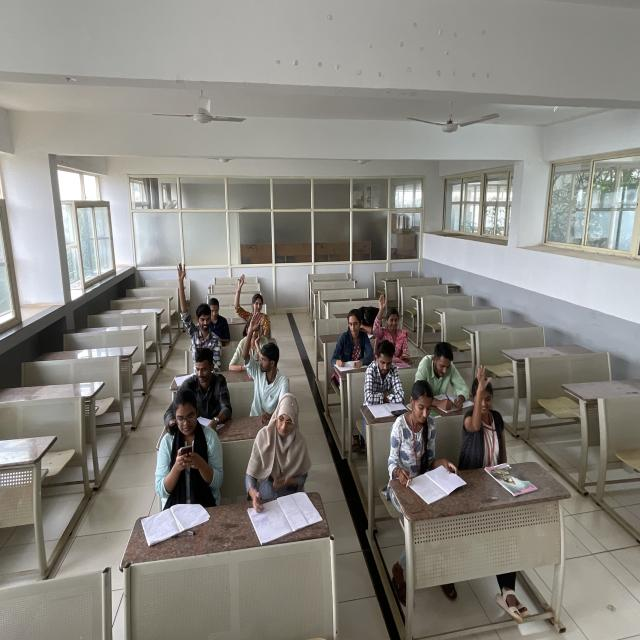Hand Rising: (166, 248, 230, 364), (463, 356, 518, 468), (225, 306, 296, 392), (218, 252, 285, 334), (364, 280, 424, 364)
Reading: (224, 378, 327, 529), (359, 336, 408, 409)
Sleeping: (347, 290, 379, 341)
Using Phone: (161, 396, 228, 499)
Writing: (384, 380, 459, 490), (404, 331, 479, 415), (323, 313, 374, 380)
